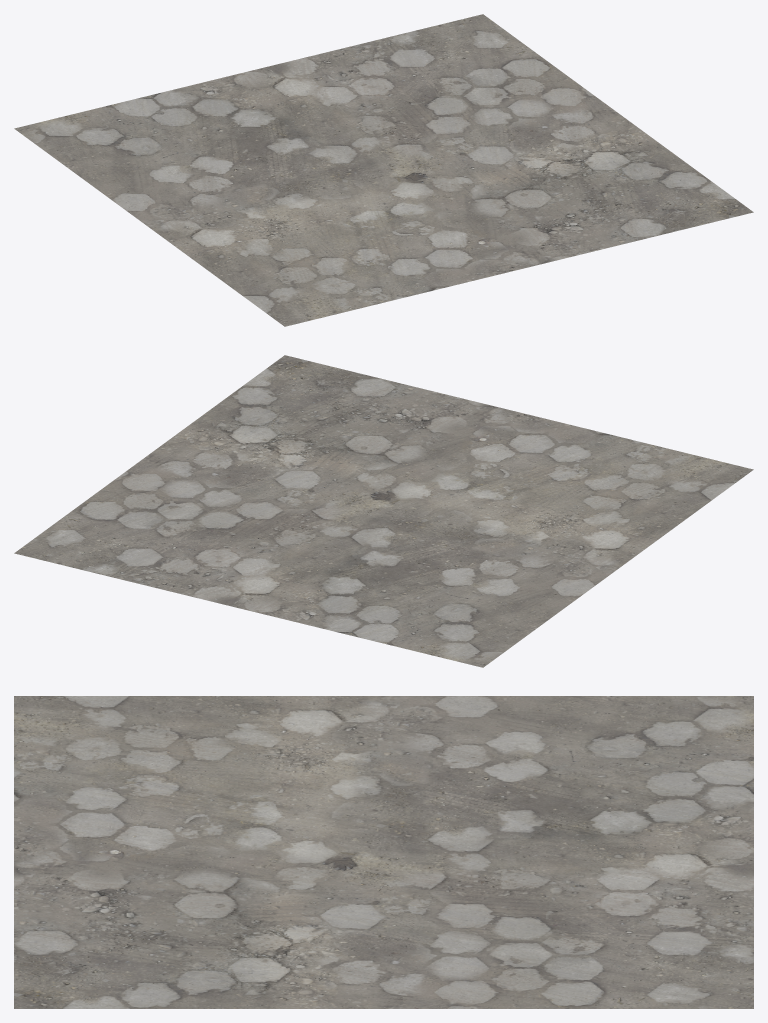
Rendered from sm_HexTile_01_02.fbx.
3 renders of one model, top to bottom at view 1: azimuth 30°, elevation 25°; view 2: azimuth 150°, elevation 25°; view 3: azimuth 270°, elevation 25°, orthographic. The views are drawn at different scales.
Visible parts, largest first — view 1: sm_HexTile_01_02_LOD0; view 2: sm_HexTile_01_02_LOD0; view 3: sm_HexTile_01_02_LOD0.
Boxes of the visible parts, x1,y1,x2,y2 form: sm_HexTile_01_02_LOD0: [14, 14, 753, 326]; sm_HexTile_01_02_LOD0: [14, 355, 753, 667]; sm_HexTile_01_02_LOD0: [14, 696, 753, 1008].
Size of the model in its own units: 400 by 400 by 1.74e-05.
